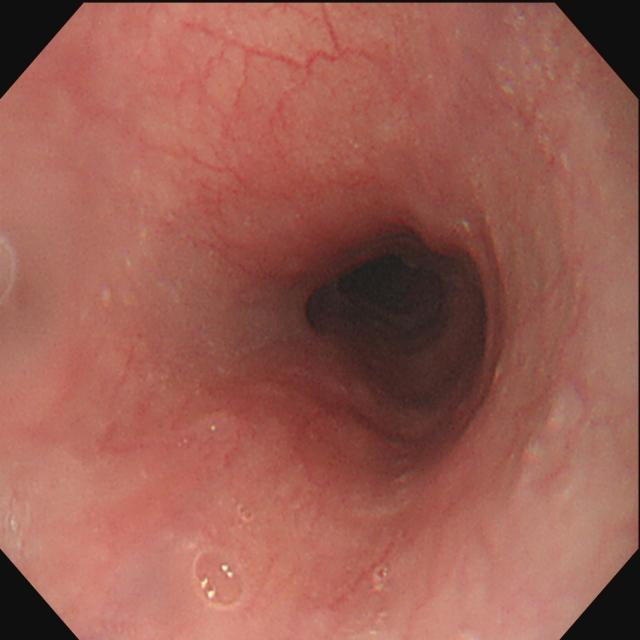E: (303, 243, 477, 356)
T: (193, 549, 246, 611)
